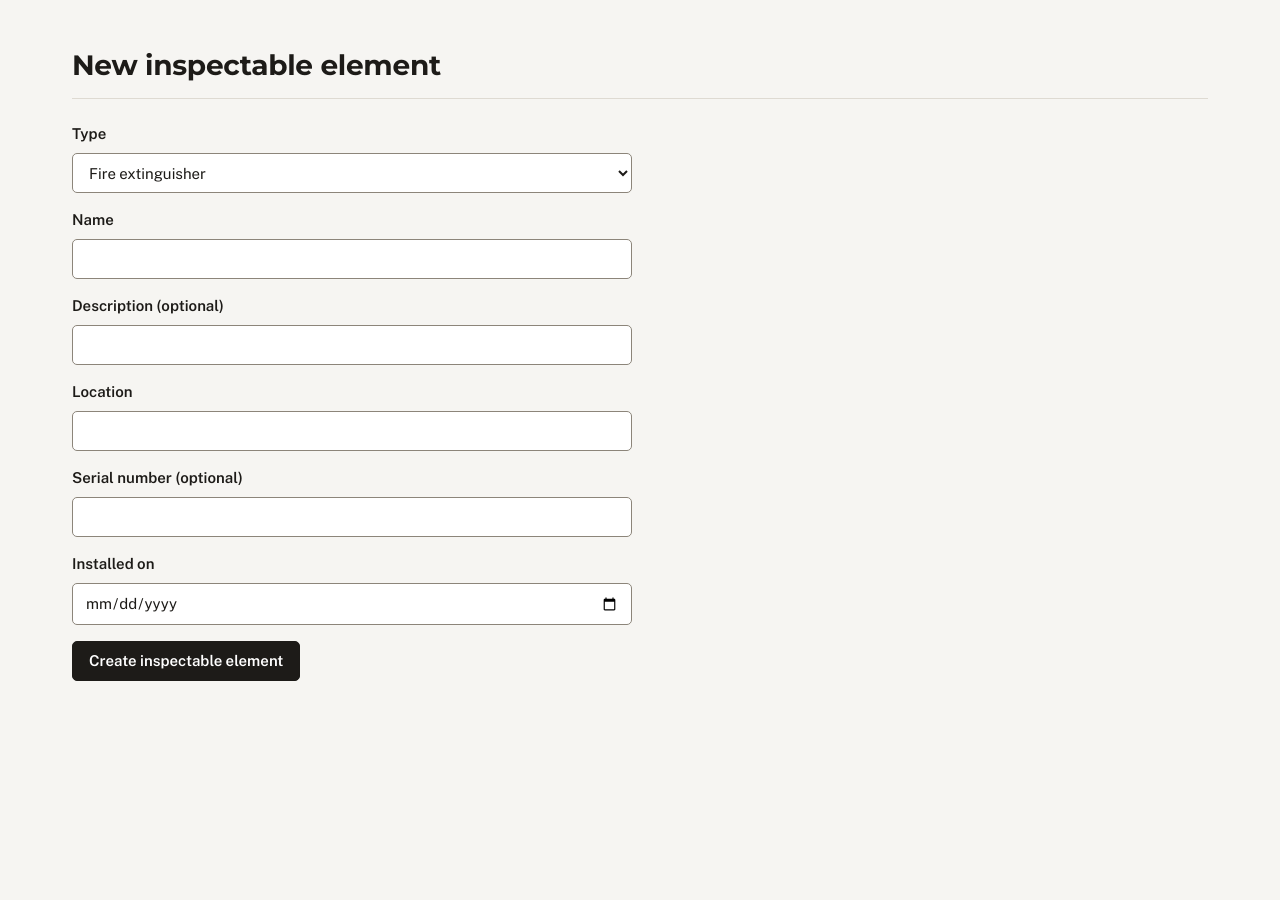
Test: InspectableElementCreatePage › shows the generic not-found message when the server rejects with code: COMMUNITY_NOT_FOUND
This screenshot has width=1280, height=900.
In the field with test id "inspectable-element-create-name": (352, 259) [72,239,632,279], type "Lobby extinguisher"
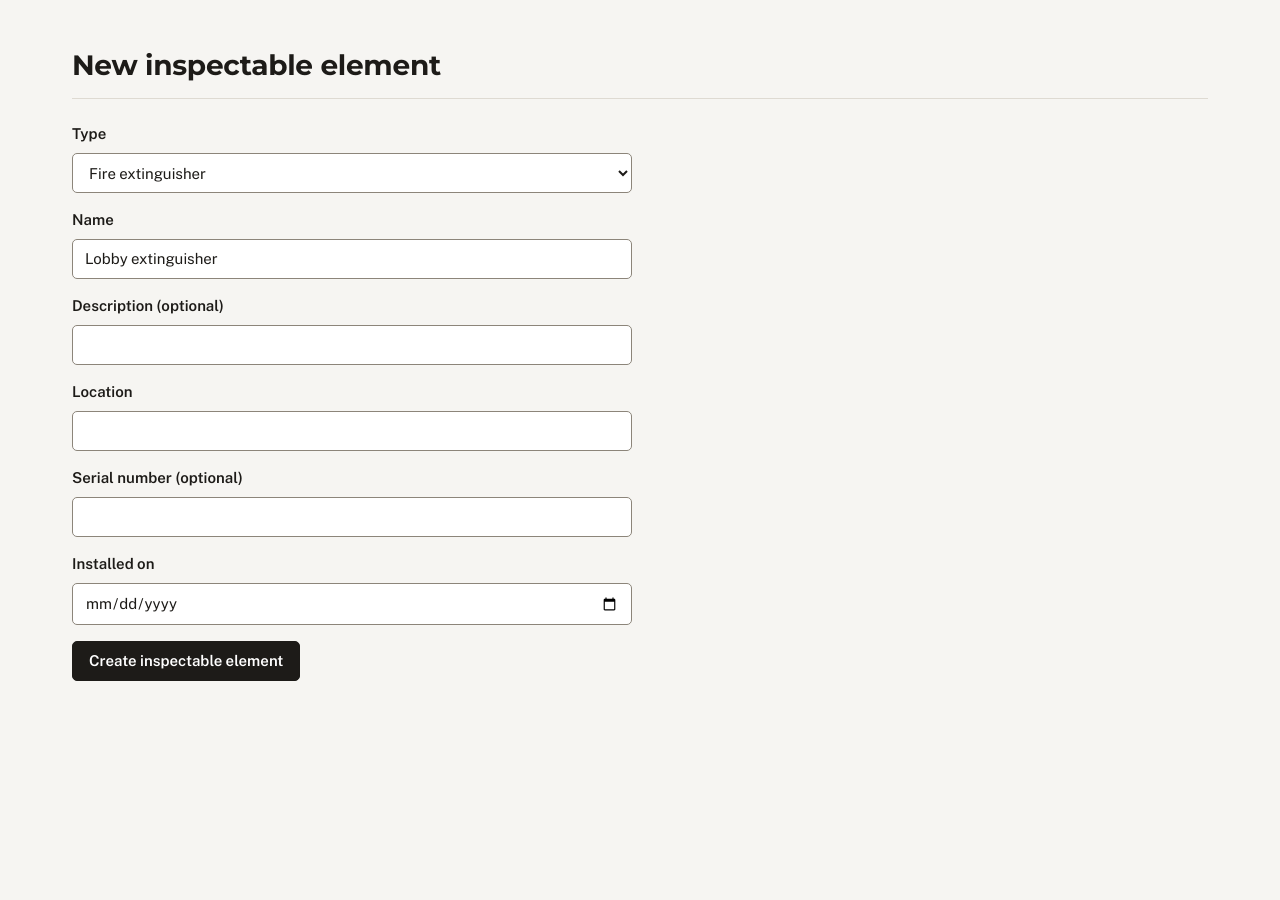
In the field with test id "inspectable-element-create-location": (352, 431) [72,411,632,451], type "Ground-floor corridor"
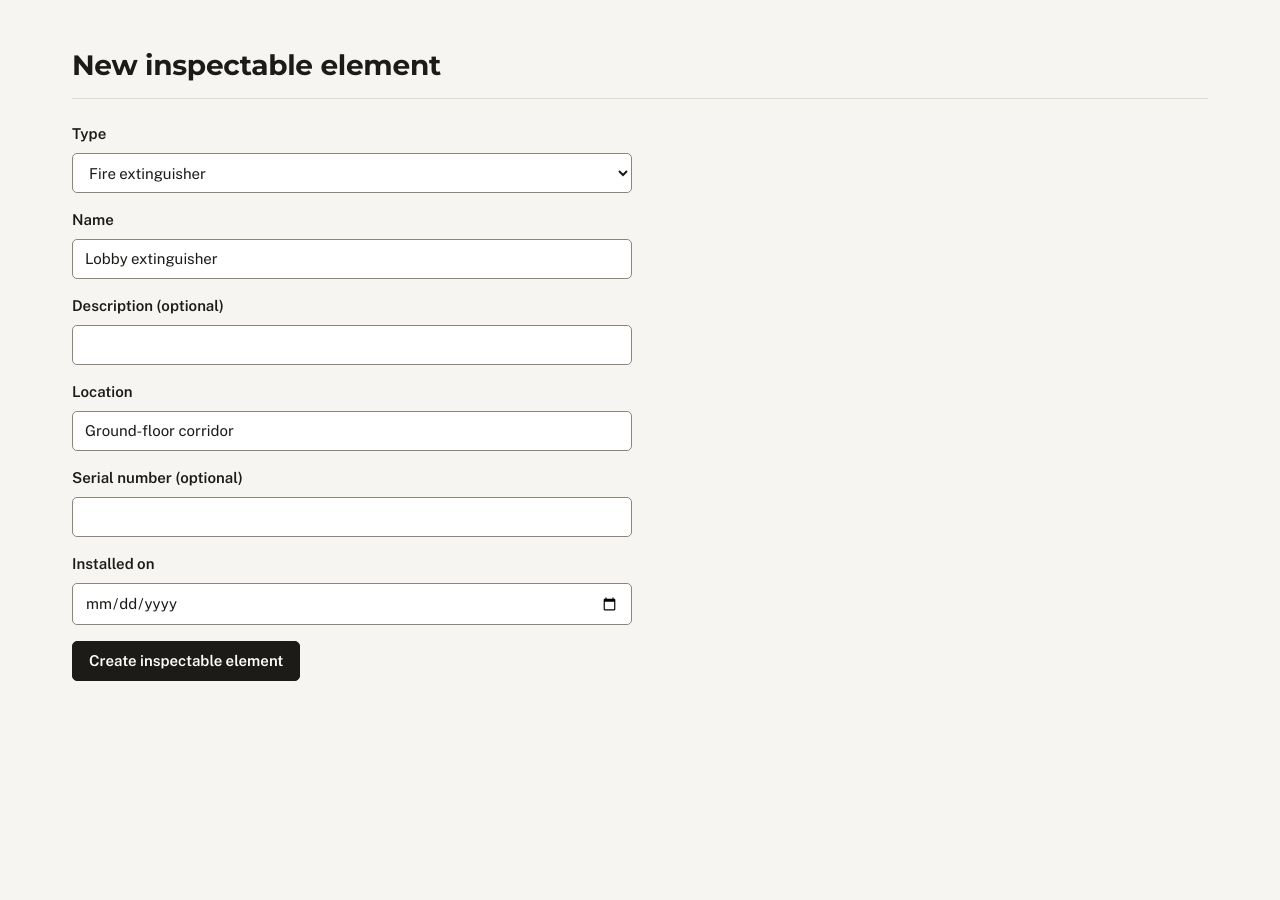
In the date field with test id "inspectable-element-create-installed-at": (352, 604) [72,583,632,625], type "2026-03-15"
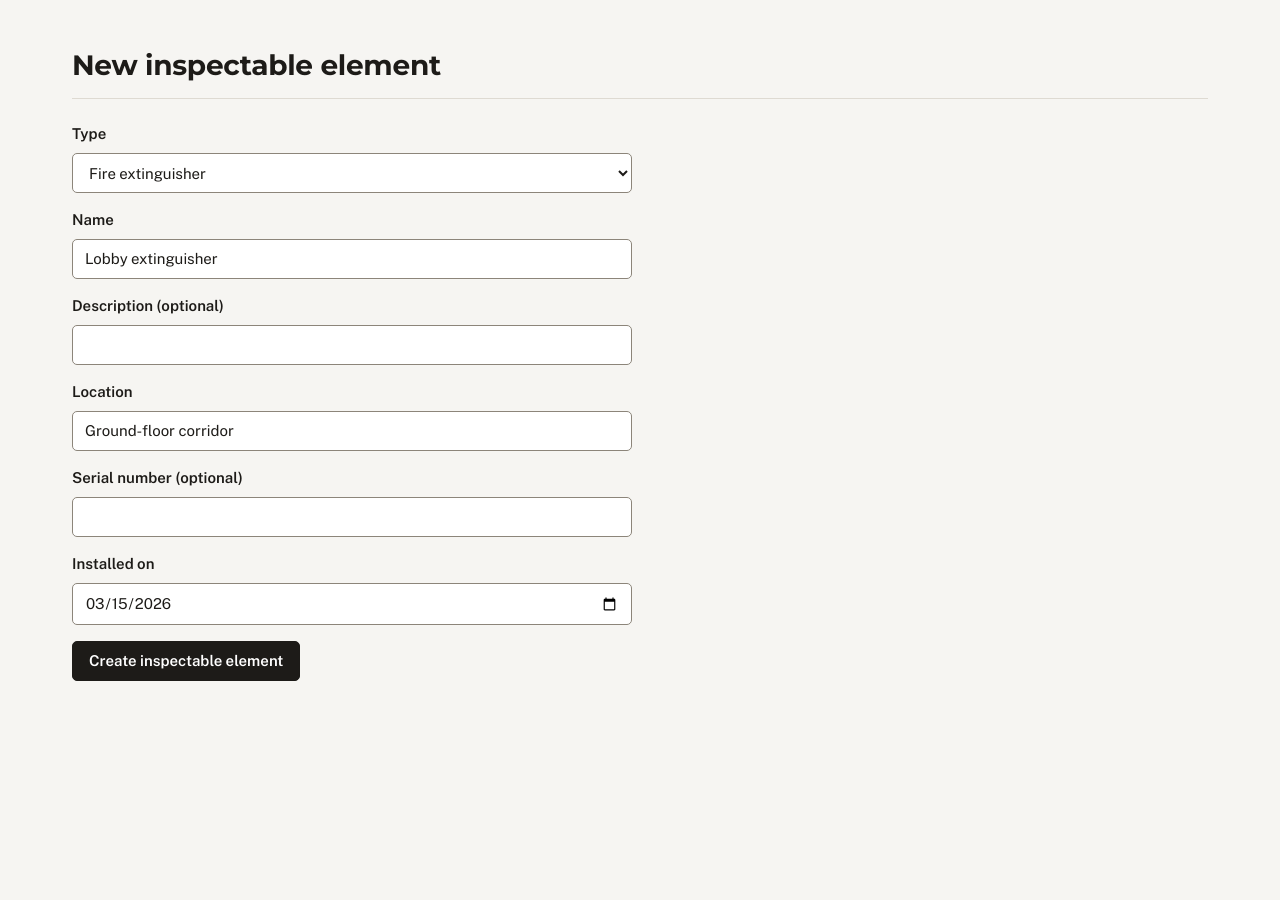
Click the button with test id "inspectable-element-create-submit": (186, 661) [72,641,300,681]
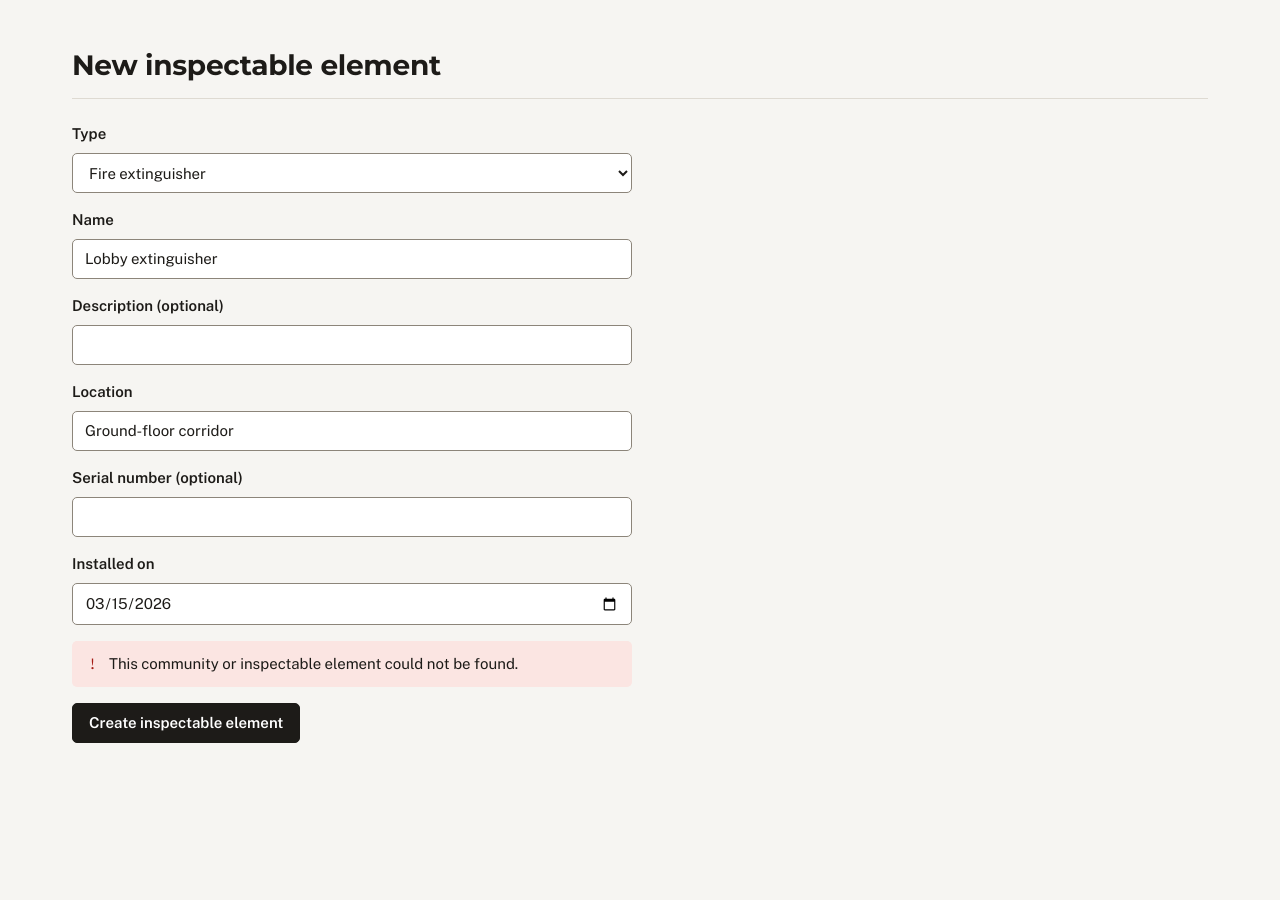
Result: the message with test id "inspectable-element-create-error" shows "This community or inspectable element could not be found." at [109,655,518,672]
